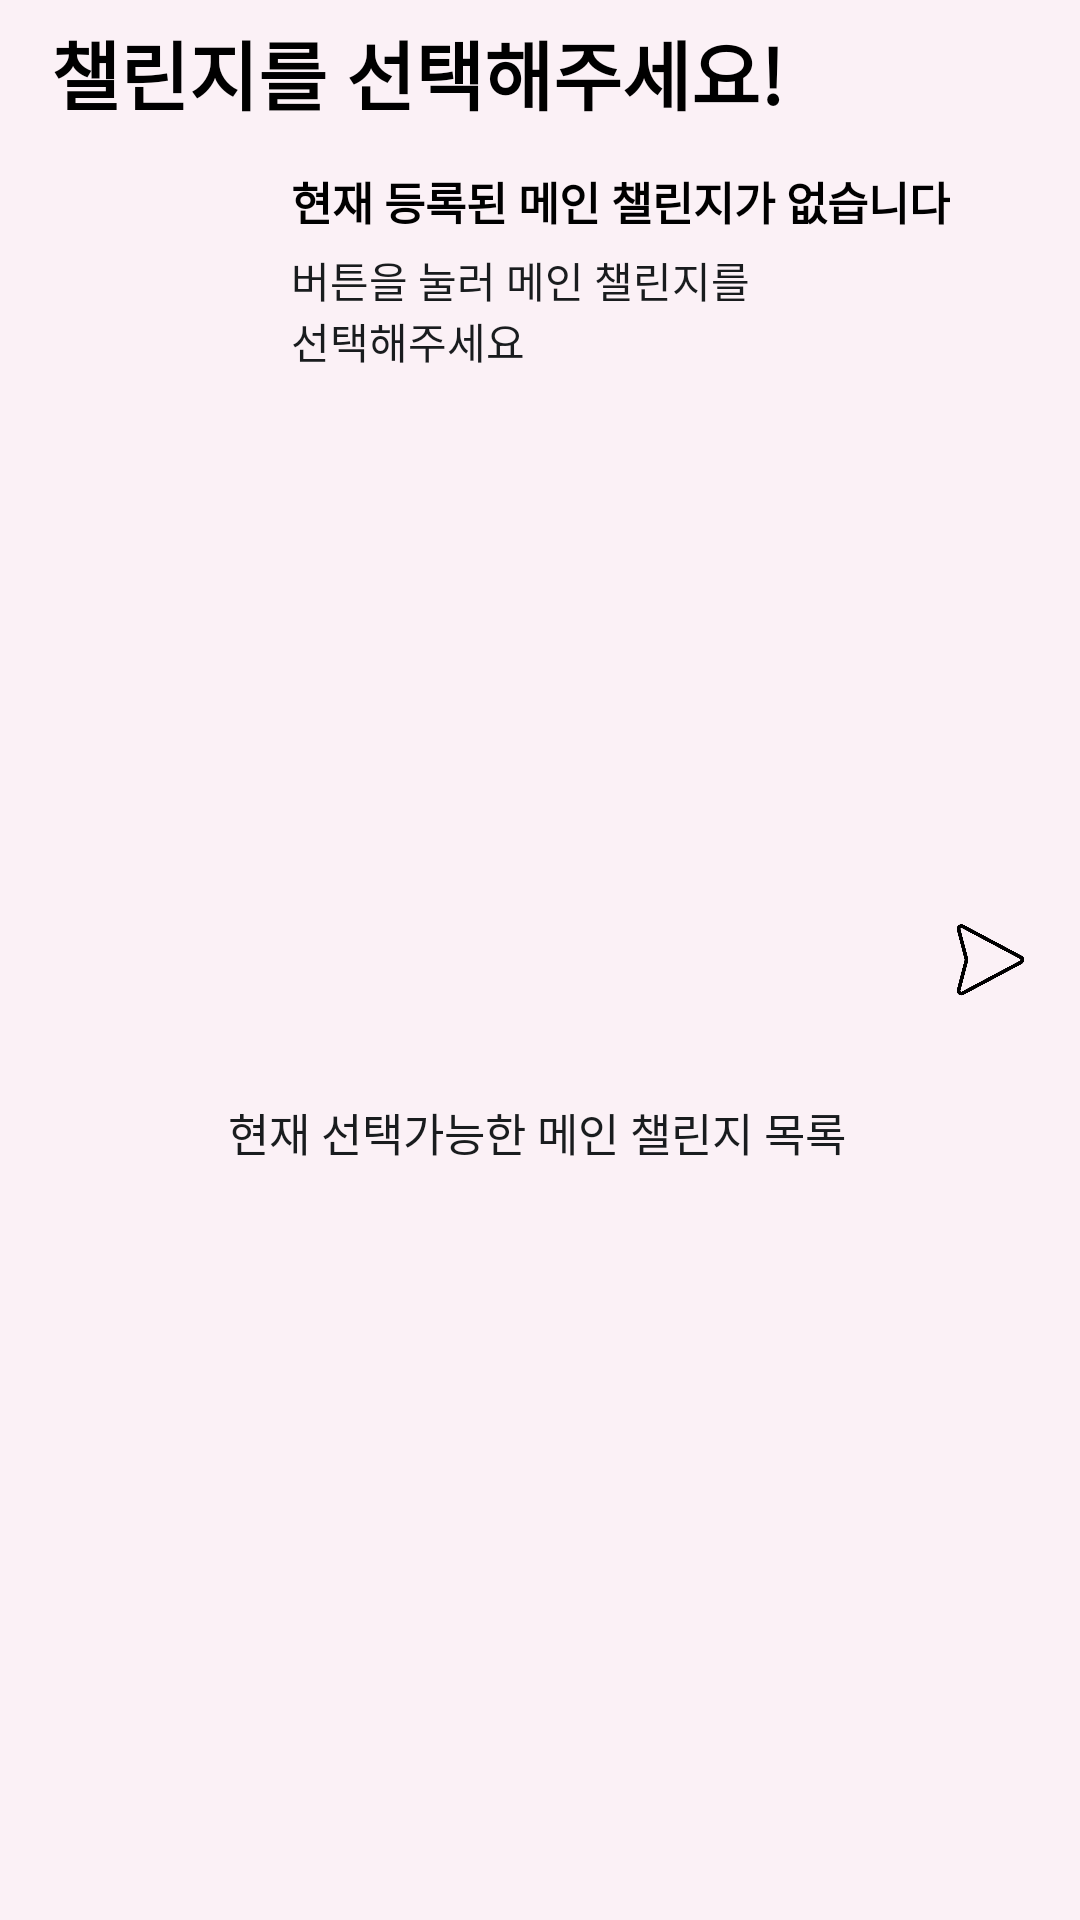

Locate icon controls on the screen. Image size 1080 x 1920, boxes as (x1, y1, x2, y2).
arrow: (957, 924, 1024, 996)
